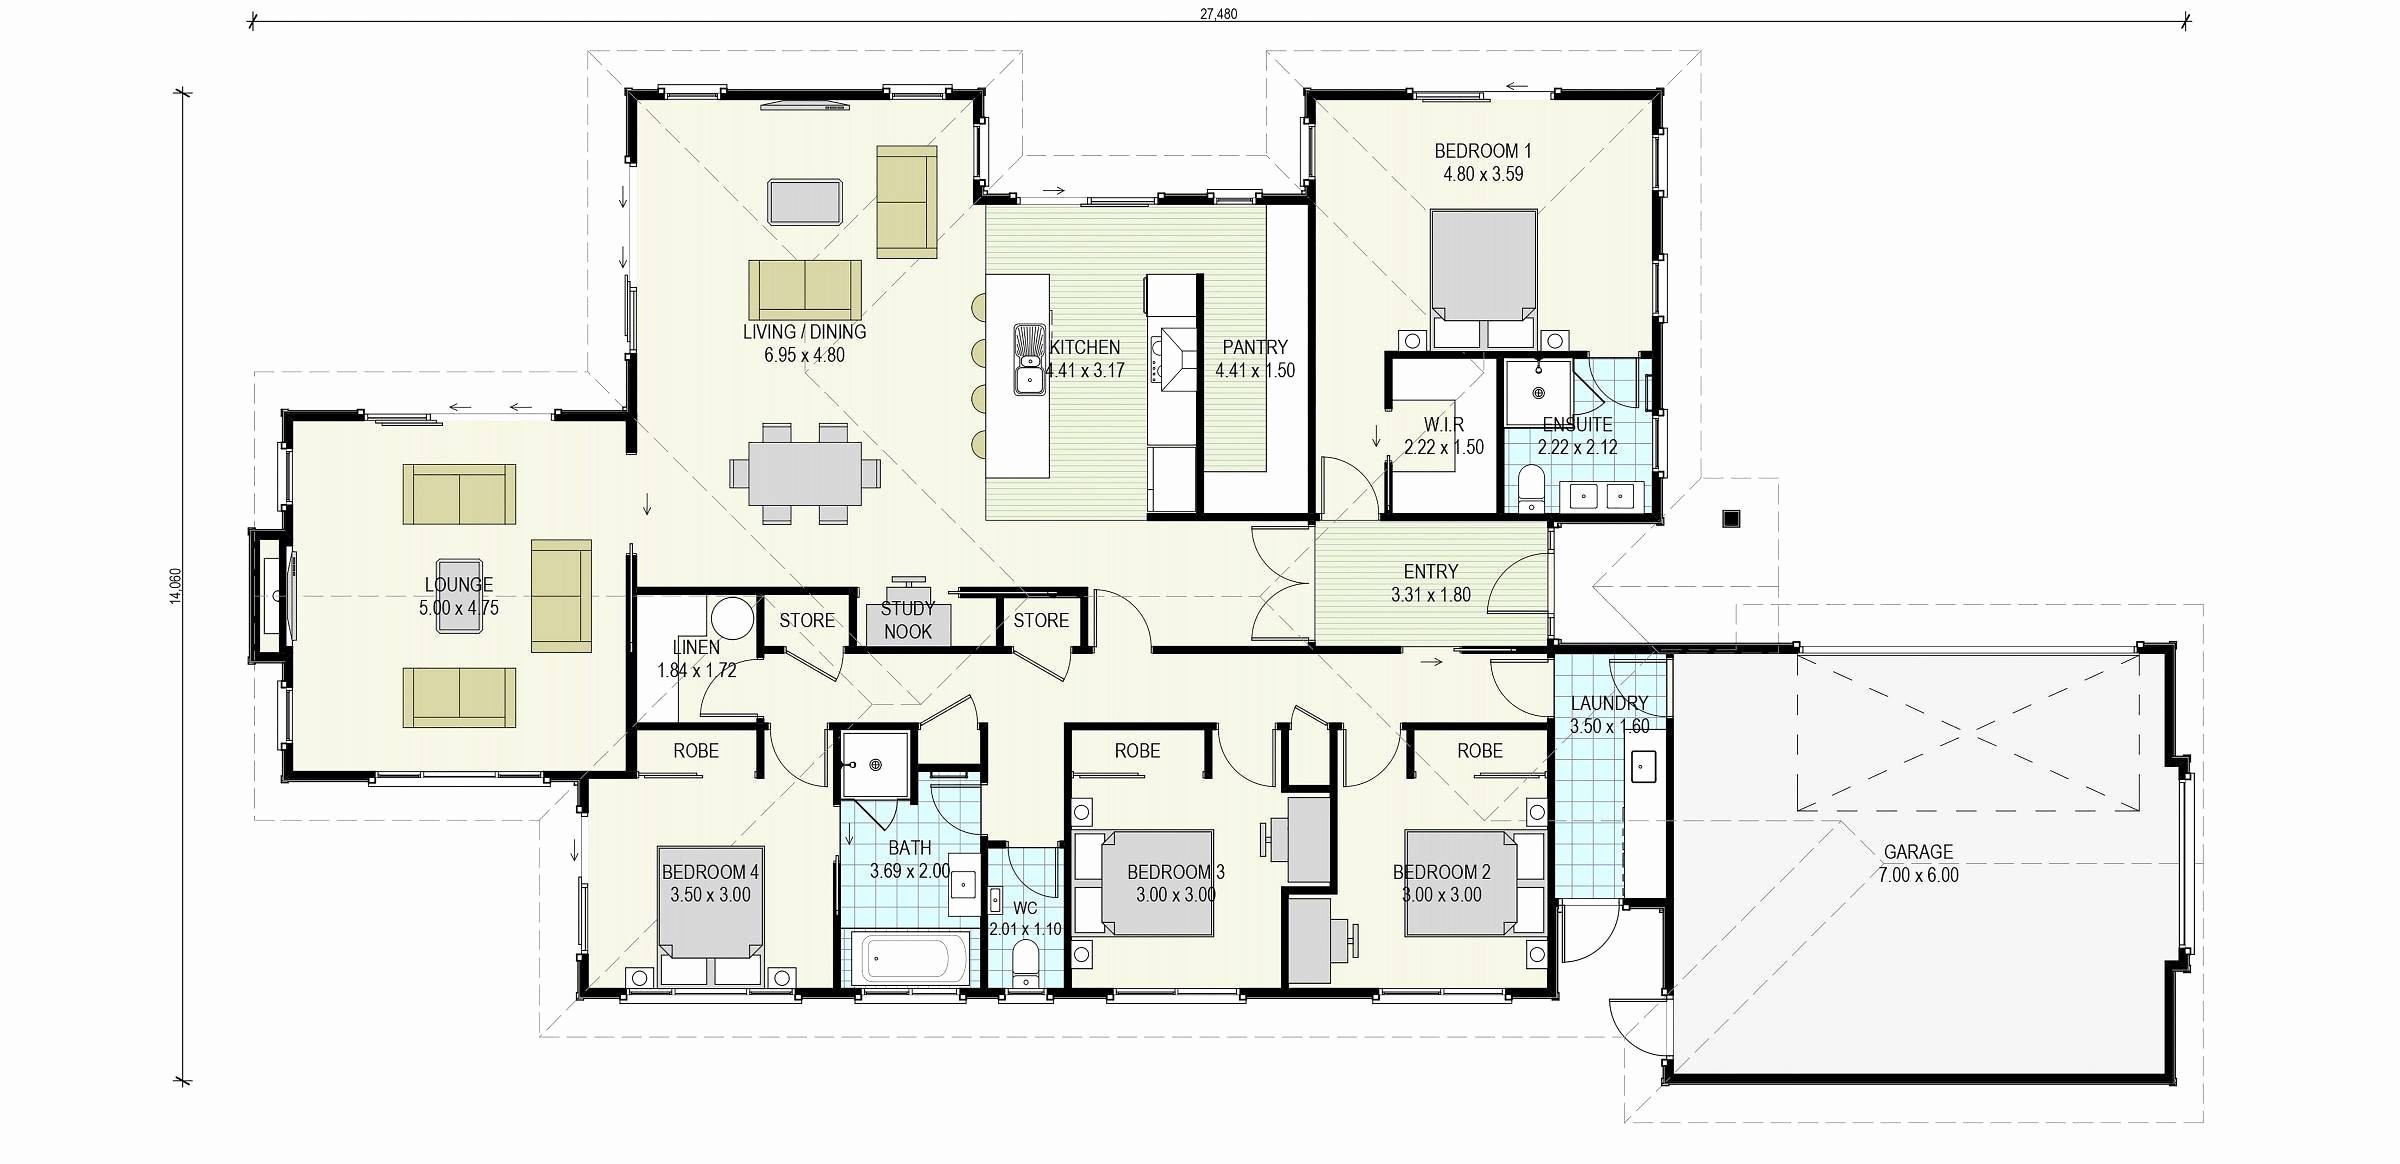door: (1244, 521, 1316, 646), (1472, 554, 1538, 623), (924, 783, 986, 844), (1610, 992, 1668, 1055), (1319, 446, 1378, 507), (1217, 740, 1283, 793), (690, 675, 756, 717), (1344, 741, 1394, 793), (1006, 856, 1059, 898)
room: (1303, 87, 1659, 528), (283, 417, 637, 778), (628, 83, 986, 424), (983, 195, 1316, 527), (1332, 729, 1557, 1002), (1071, 724, 1283, 988), (582, 783, 834, 996), (833, 724, 986, 989)
window: (276, 683, 300, 741), (272, 446, 292, 507), (669, 81, 719, 100), (895, 81, 944, 98)
